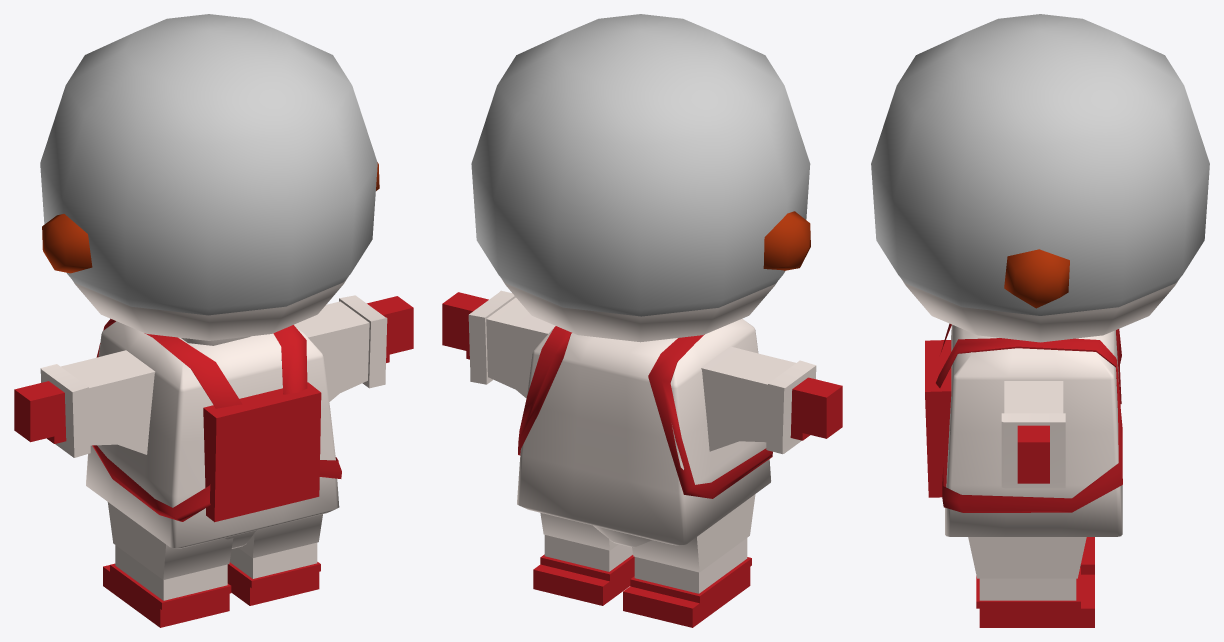
File: player.fbx
3 renders of one model, left to right at view 1: azimuth 30°, elevation 25°; view 2: azimuth 150°, elevation 25°; view 3: azimuth 270°, elevation 25°, orthographic.
Visible parts, largest first — view 1: 球体_1, 立方体_2, 立方体_12_2, 立方体_28, 立方体_25, 球体, 平面, 立方体_12, 立方体_32, 立方体_5, 立方体_8, 胶囊 (+7 smaller); view 2: 球体_1, 立方体_2, 立方体_28, 球体, 立方体_25, 平面, 立方体_12, 立方体_5, 立方体_32, 立方体_7, 立方体_8, 平面_2 (+6 smaller); view 3: 球体_1, 立方体_2, 球体, 平面_2, 立方体_25, 立方体_1, 立方体_12_2, 胶囊, 立方体_7, 立方体_9, 立方体_3, 立方体_6.
Boxes of the visible parts, bbox=[...] form: 球体_1: bbox=[40, 14, 377, 315]; 立方体_2: bbox=[86, 321, 339, 548]; 立方体_12_2: bbox=[203, 382, 321, 522]; 立方体_28: bbox=[40, 350, 155, 457]; 立方体_25: bbox=[294, 295, 387, 401]; 球体: bbox=[73, 277, 347, 340]; 平面: bbox=[92, 318, 242, 521]; 立方体_12: bbox=[107, 502, 233, 579]; 立方体_32: bbox=[14, 381, 65, 442]; 立方体_5: bbox=[103, 565, 229, 627]; 立方体_8: bbox=[115, 545, 227, 600]; 胶囊: bbox=[42, 162, 379, 273]; 球体_1: bbox=[471, 14, 810, 316]; 立方体_2: bbox=[517, 319, 771, 545]; 立方体_28: bbox=[701, 346, 816, 454]; 球体: bbox=[501, 278, 777, 342]; 立方体_25: bbox=[468, 290, 555, 398]; 平面: bbox=[648, 334, 772, 498]; 立方体_12: bbox=[632, 494, 755, 572]; 立方体_5: bbox=[623, 567, 750, 627]; 立方体_32: bbox=[791, 377, 842, 438]; 立方体_7: bbox=[533, 563, 634, 605]; 立方体_8: bbox=[634, 538, 747, 593]; 平面_2: bbox=[518, 326, 571, 455]; 球体_1: bbox=[871, 14, 1209, 315]; 立方体_2: bbox=[945, 324, 1122, 536]; 球体: bbox=[902, 280, 1178, 342]; 平面_2: bbox=[936, 338, 1122, 512]; 立方体_25: bbox=[1001, 381, 1065, 488]; 立方体_1: bbox=[968, 537, 1086, 578]; 立方体_12_2: bbox=[925, 340, 951, 497]; 胶囊: bbox=[1004, 249, 1069, 308]; 立方体_7: bbox=[979, 574, 1094, 627]; 立方体_9: bbox=[979, 578, 1076, 600]; 立方体_3: bbox=[1017, 425, 1049, 483]; 立方体_6: bbox=[976, 567, 1080, 608].
Size of the model in its own units: 166 by 230 by 126.
